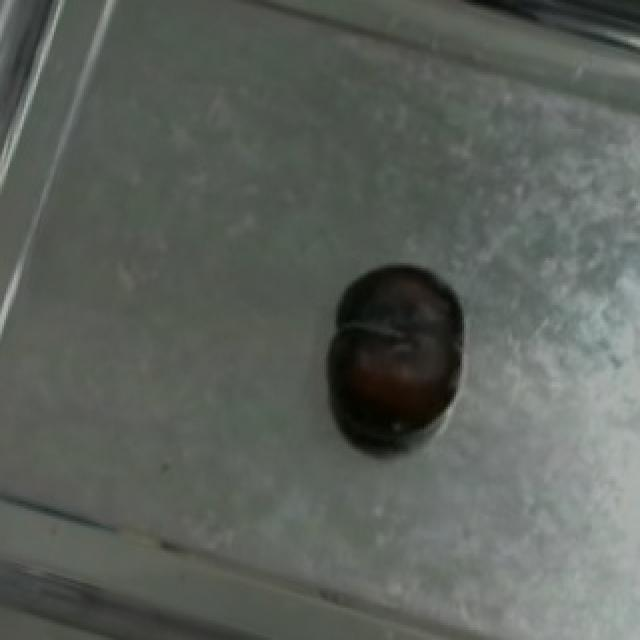Fruit: (318, 246, 476, 457)
